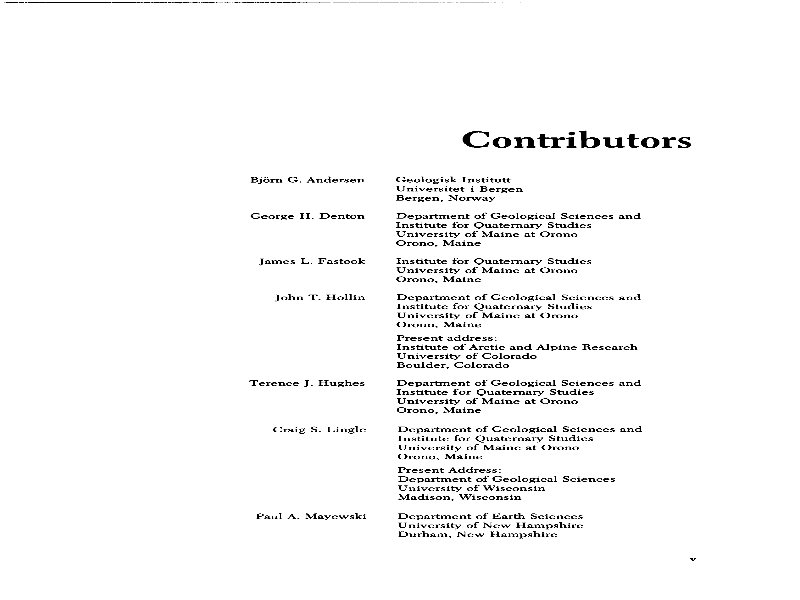table: (249, 125, 705, 552)
